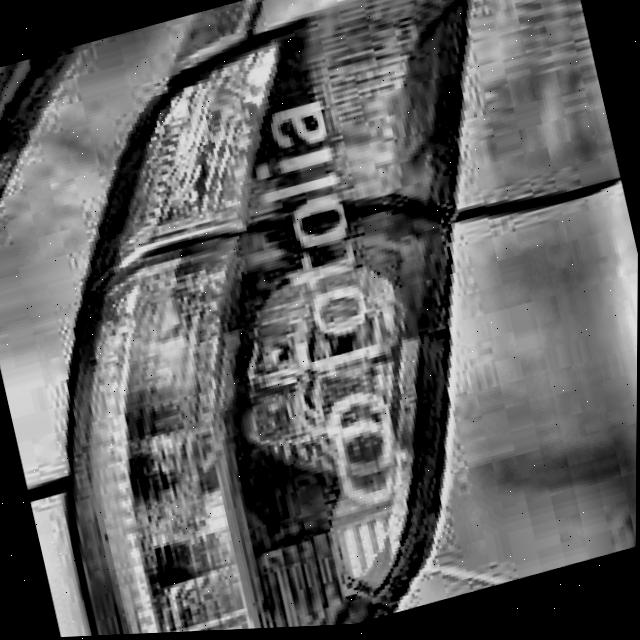tail_lamp: (212, 241, 473, 612)
